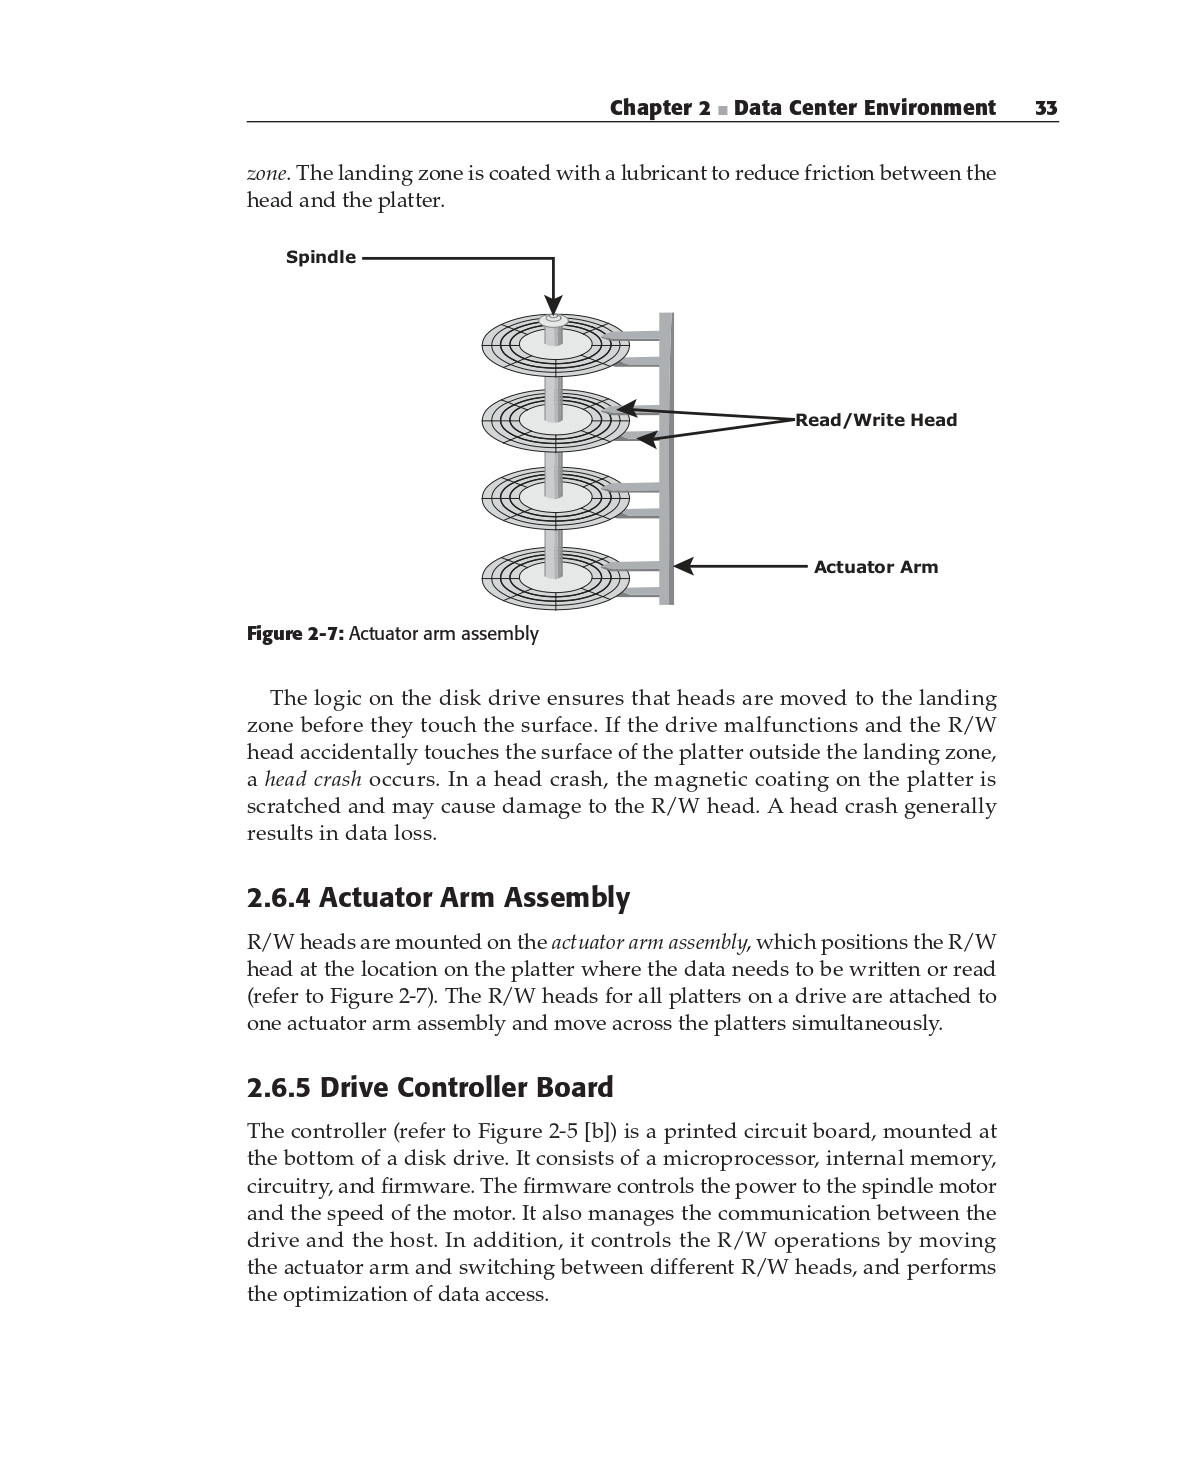Image: (274, 222, 990, 619)
Paragraph: (242, 1115, 1016, 1311), (236, 671, 1013, 858), (236, 920, 1005, 1046), (228, 155, 1013, 216), (242, 873, 659, 920), (605, 91, 1072, 128), (249, 1063, 619, 1110), (230, 605, 576, 655)
